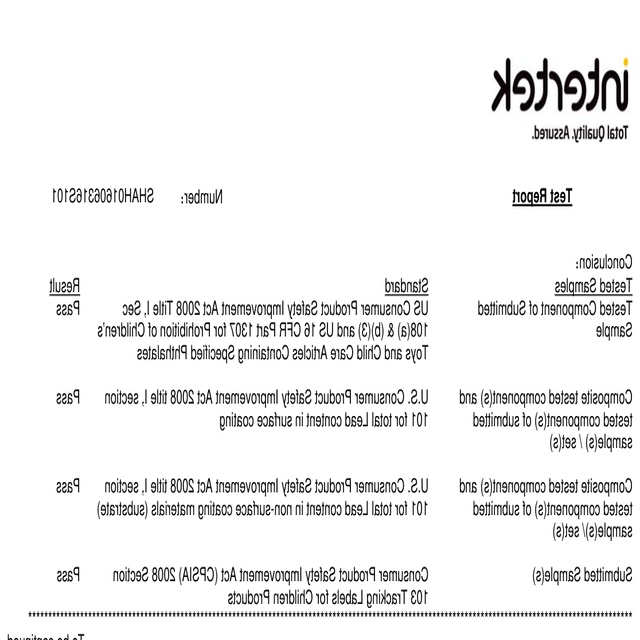intertek: (487, 51, 635, 116)
